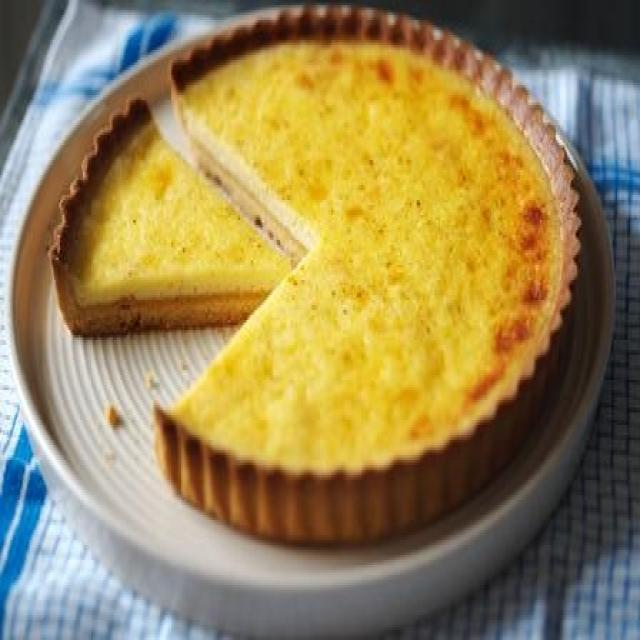炸货点心: (6, 2, 623, 622)
蛋糕甜品: (6, 2, 623, 622)
